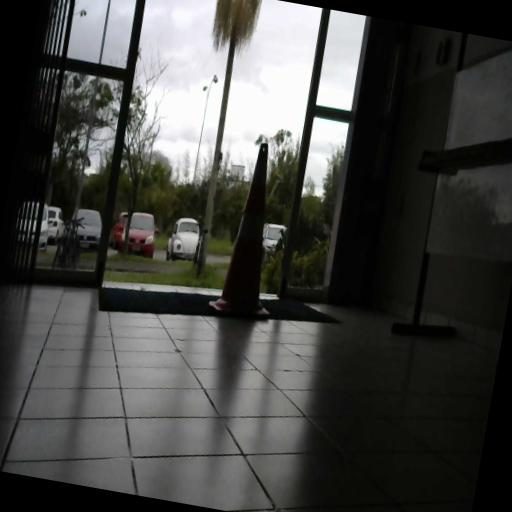cone: (208, 136, 297, 330)
